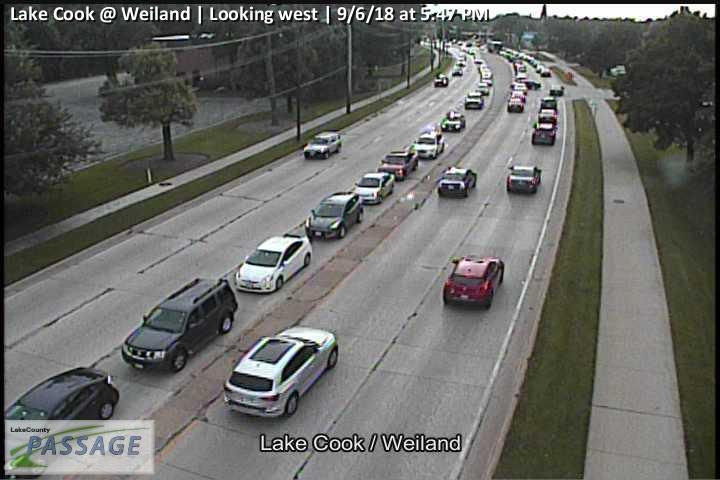SUV: (122, 278, 238, 370), (223, 326, 338, 416), (5, 367, 119, 443), (235, 234, 312, 293), (305, 192, 363, 239), (378, 146, 419, 180), (439, 165, 477, 197), (304, 131, 341, 159), (414, 129, 444, 159), (466, 91, 484, 108), (542, 96, 556, 107), (478, 83, 489, 94)
Sedan: (443, 255, 504, 309), (353, 172, 394, 204), (508, 164, 541, 192), (534, 123, 555, 145), (442, 111, 465, 131), (539, 107, 556, 124), (508, 97, 524, 113), (520, 79, 541, 90), (435, 73, 448, 85), (510, 90, 525, 100), (550, 85, 564, 95), (511, 83, 526, 91)
